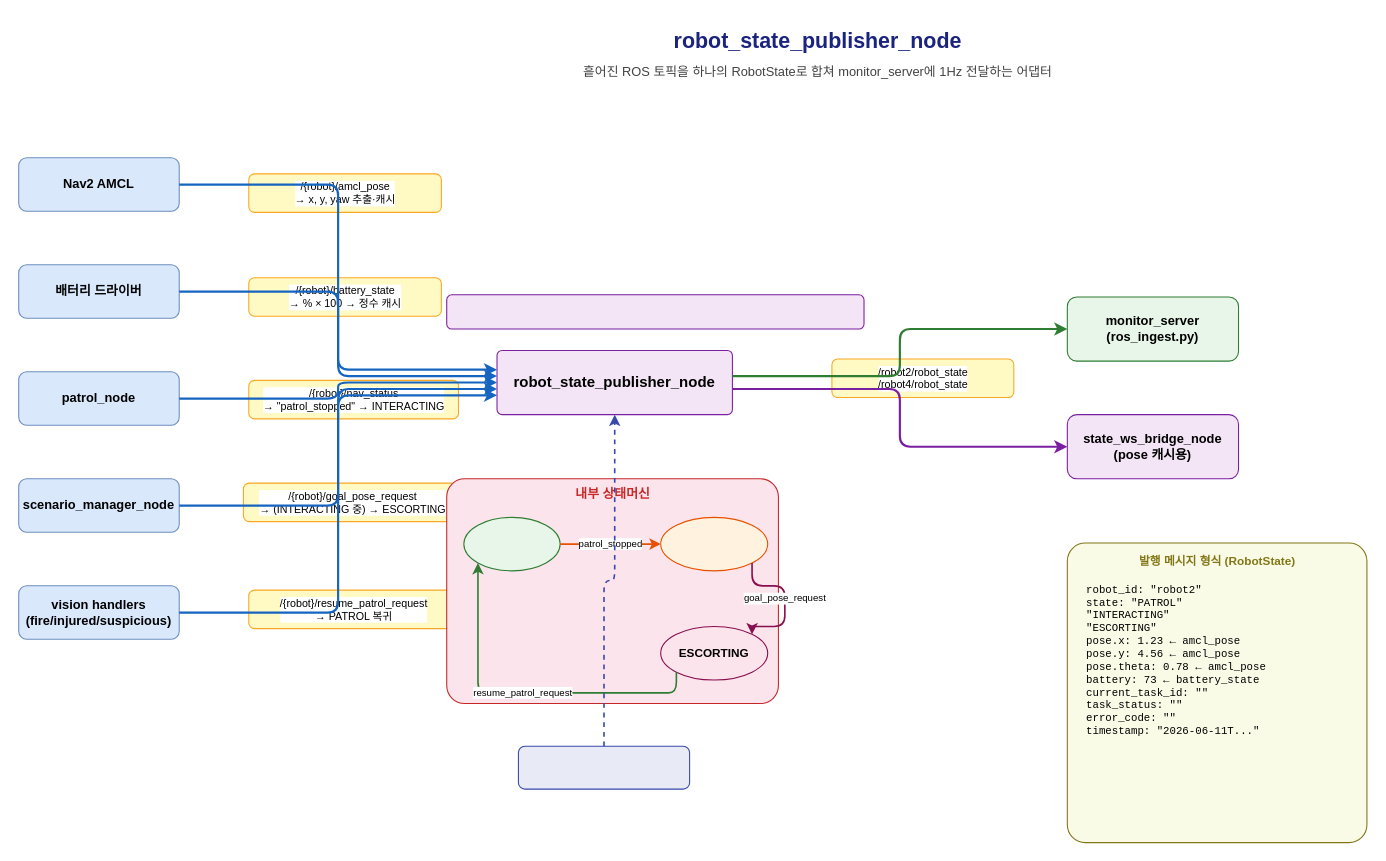
This 1386x861 diagram has some shape labels left out. Here are the shapes that lost their labels. From the top down, the centre of each, then its label:
(655,311): robot2 / robot4 각각 독립 실행 (ROBOTS = ["robot2", "robot4"])
(511,543): PATROL
(714,543): INTERACTING
(603,767): ⏱ 1Hz 타이머
